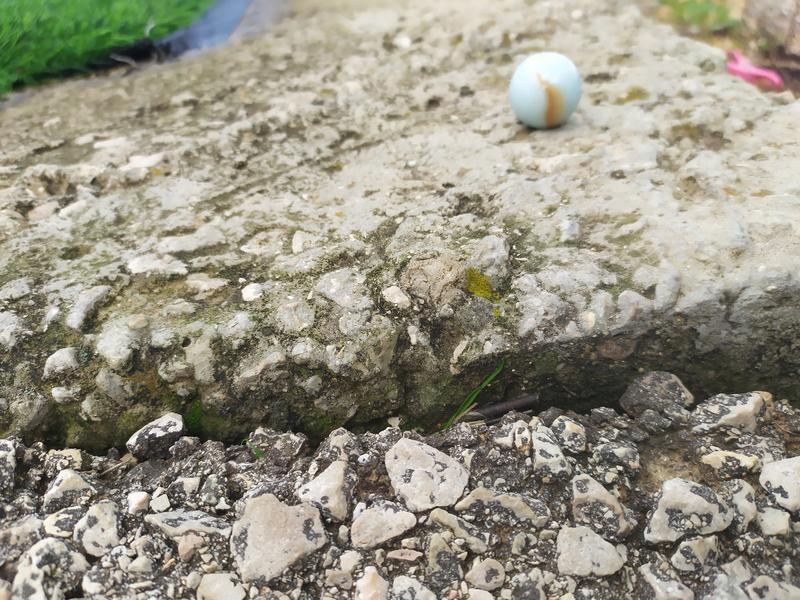Warning: (506, 48, 587, 133)
